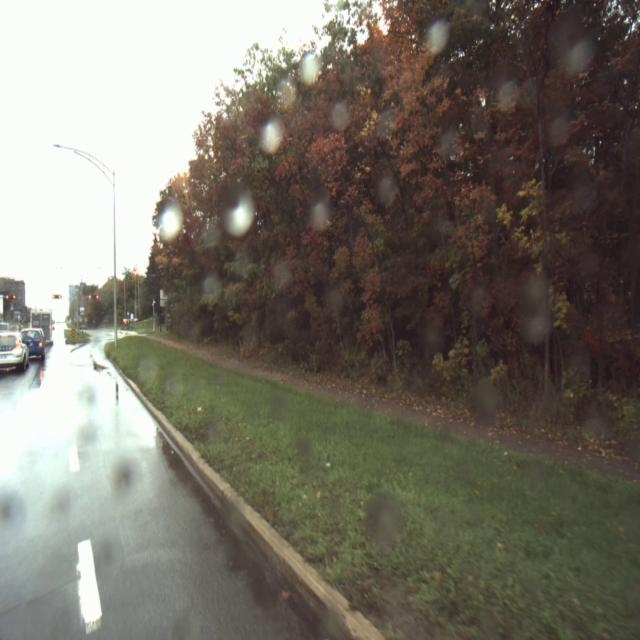car: (0, 330, 29, 377), (20, 328, 46, 364)
trafficLight-Red: (4, 292, 17, 302), (88, 293, 99, 301), (52, 293, 62, 300)
